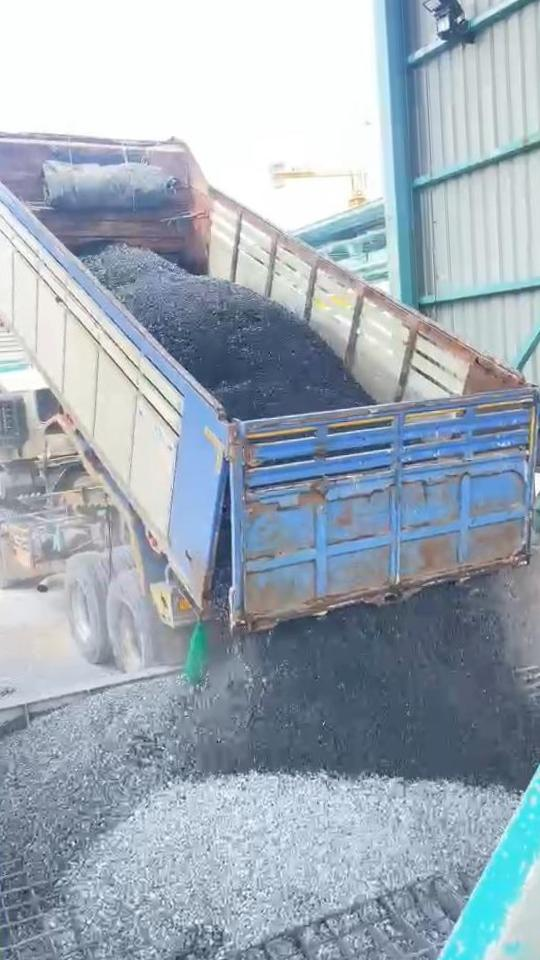gravel: (0, 586, 540, 960), (83, 243, 373, 419), (213, 492, 232, 619)
